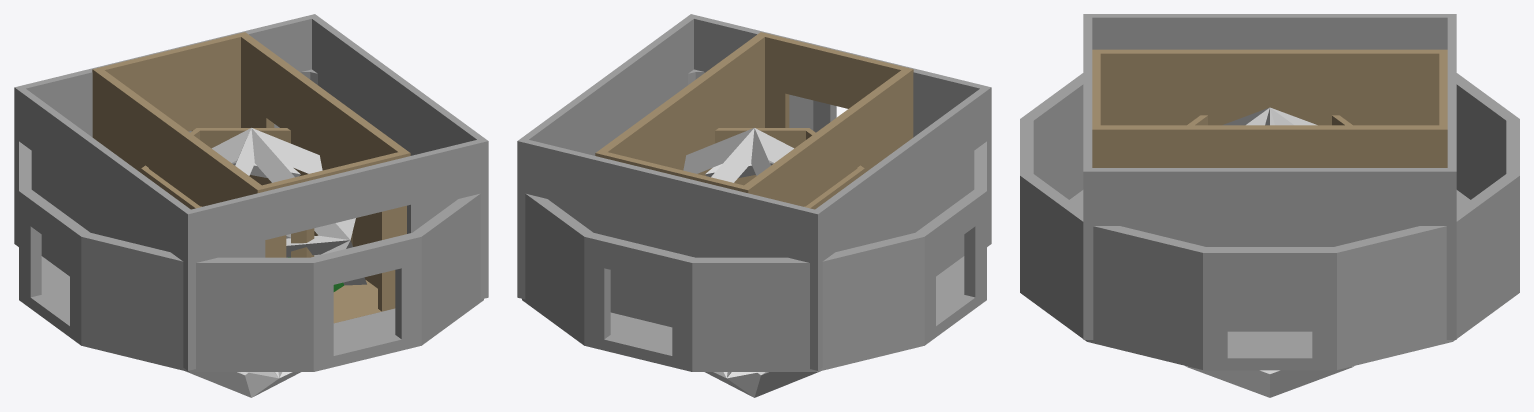
The model's file is round-grassy-module.dae.
3 views of the same model, side by side, from view 1: azimuth 30°, elevation 25°; view 2: azimuth 150°, elevation 25°; view 3: azimuth 270°, elevation 25° (orthographic). The views are drawn at different scales.
Parts seen in each view (by area): view 1: _2-sided-gallery-module, big-door-module, rectangular-module, Icosphere-hollow, hexagonal-module; view 2: big-door-module, _2-sided-gallery-module, rectangular-module, Icosphere-hollow, hexagonal-module; view 3: _2-sided-gallery-module, big-door-module, rectangular-module, Icosphere-hollow.
Boxes of the visible parts, left/top/right/bottom form: _2-sided-gallery-module: left=19, top=69, right=483, bottom=371; big-door-module: left=14, top=14, right=488, bottom=370; rectangular-module: left=92, top=32, right=410, bottom=323; Icosphere-hollow: left=185, top=128, right=366, bottom=397; hexagonal-module: left=141, top=128, right=352, bottom=257; big-door-module: left=517, top=14, right=991, bottom=370; _2-sided-gallery-module: left=522, top=69, right=986, bottom=371; rectangular-module: left=595, top=32, right=913, bottom=206; Icosphere-hollow: left=683, top=128, right=820, bottom=397; hexagonal-module: left=715, top=128, right=864, bottom=209; _2-sided-gallery-module: left=1020, top=73, right=1519, bottom=370; big-door-module: left=1083, top=14, right=1456, bottom=339; rectangular-module: left=1092, top=49, right=1447, bottom=167; Icosphere-hollow: left=1185, top=107, right=1354, bottom=397.
Bounding box in the file's own units: 8.43 × 8.43 × 5.74.
